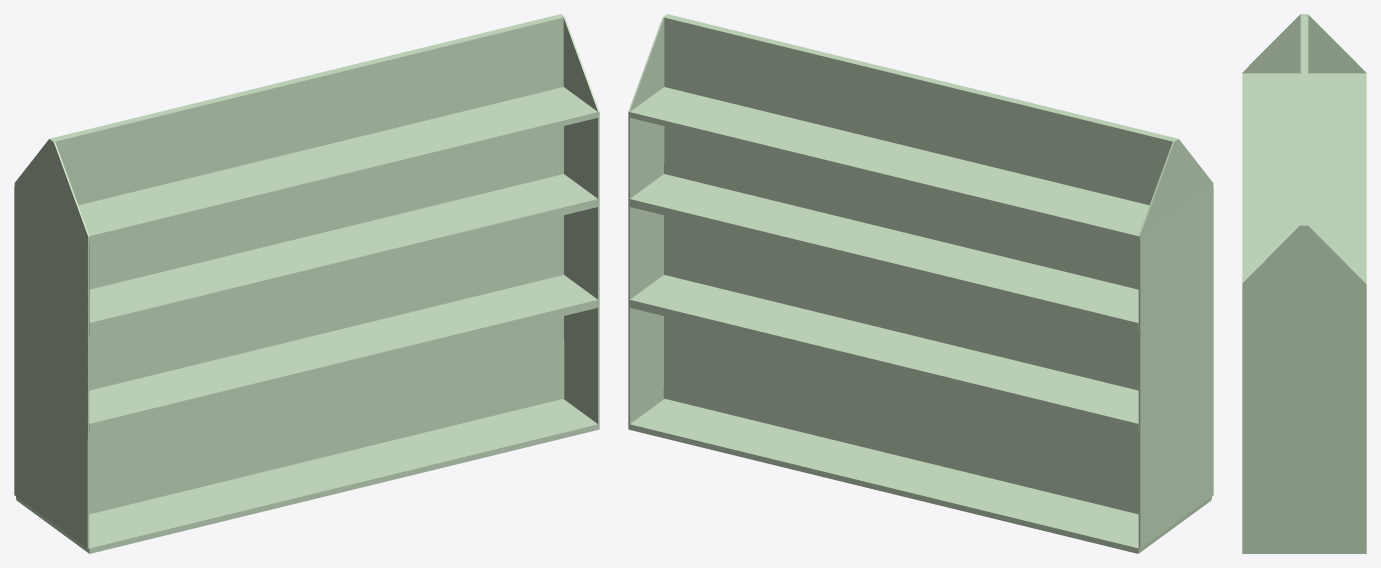
Rendered from Isle.fbx.
3 views of the same model, side by side, from view 1: azimuth 30°, elevation 25°; view 2: azimuth 150°, elevation 25°; view 3: azimuth 270°, elevation 25° (orthographic). The views are drawn at different scales.
Visible parts, largest first — view 1: Cube.001; view 2: Cube.001; view 3: Cube.001.
Part boxes in pixels (bbox=[...]): Cube.001: bbox=[14, 14, 599, 553]; Cube.001: bbox=[628, 14, 1213, 553]; Cube.001: bbox=[1242, 14, 1366, 553].
Bounding box in the file's own units: 997 × 720 × 247.
